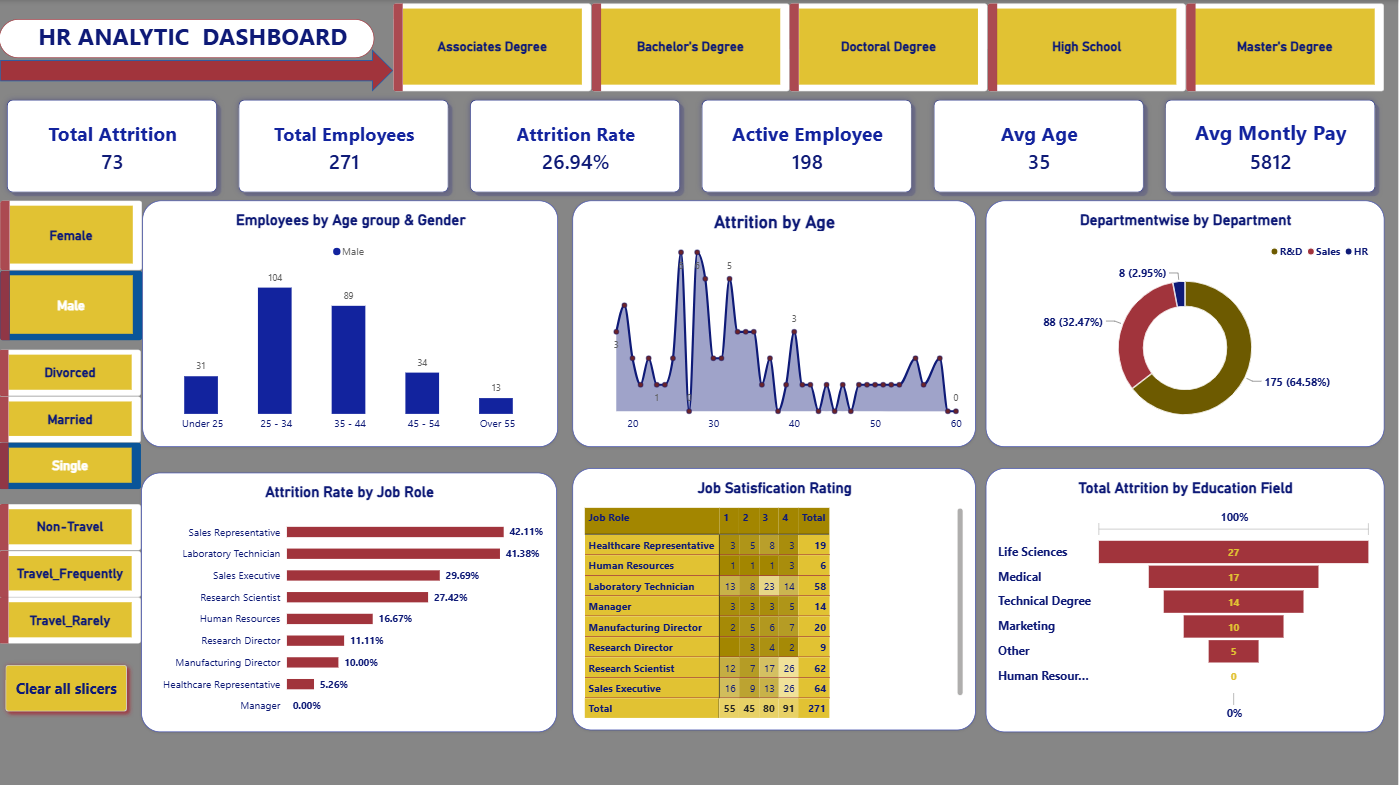

Layout of this report page (visuals, bound fields, positions):
{"tool":"powerbi","page":{"name":"Page 1","canvas":[1920,1080],"ordinal":0},"visuals":[{"type":"cardVisual","fields":{"Data":["HR data.Total  attrition","HR data.Total Employees","HR data.Attrition Rate","HR data.Active Employee","Avg(HR data.Age)","Avg(HR data.Monthly Income)"]},"box":[0,126.1,1901.8,149.1],"z":0},{"type":"clusteredColumnChart","title":"Employees by Age group & Gender","fields":{"Category":["HR data.Age Group"],"Series":["HR data.Gender"],"Y":["HR data.Total Employees"]},"box":[196.8,275.2,570.4,338.2],"z":1000},{"type":"areaChart","title":" Attrition by Age","fields":{"Category":["HR data.Age"],"Y":["HR data.Total  Attrition"]},"box":[787.2,275.2,553.5,338.2],"z":2000},{"type":"donutChart","title":"Departementwise  by Department","fields":{"Category":["HR data.Department"],"Y":["HR data.Total Employees"]},"box":[1354.5,275.2,547.3,338.2],"z":3000},{"type":"clusteredBarChart","fields":{"Category":["HR data.Job Role"],"Y":["HR data.Attrition Rate"]},"box":[195.3,648.8,570.4,356.7],"z":4000},{"type":"pivotTable","title":"Job Satisfication Rating","fields":{"Columns":["HR data.Job Satisfaction"],"Rows":["HR data.Job Role"],"Values":["HR data.Total Employees"]},"box":[787.2,642.7,553.5,359.8],"z":5000},{"type":"funnel","fields":{"Category":["HR data.Education Field"],"Y":["HR data.Total  Attrition"]},"box":[1354.5,642.7,547.3,362.8],"z":6000},{"type":"advancedSlicerVisual","fields":{"Values":["HR data.Gender"]},"box":[1.5,275.2,195.3,192.2],"z":6001},{"type":"advancedSlicerVisual","fields":{"Values":["HR data.Marital Status"]},"box":[0,479.7,195.3,192.2],"z":6002},{"type":"advancedSlicerVisual","fields":{"Values":["HR data.Business Travel"]},"box":[0,691.9,195.3,192.2],"z":6003},{"type":"advancedSlicerVisual","fields":{"Values":["HR data.Education"]},"box":[541.2,4.6,1360.7,121.5],"z":6004},{"type":"actionButton","box":[0,904,184.5,81.5],"z":6005},{"type":"textbox","box":[7.7,32.3,516.6,73.8],"z":6006}]}

Visuals, with their boxes in screenshot pixels (x1, y1, x2, y2), scaled from the page's 1920x1080 canvas onto the 1399x785 screenshot:
cardVisual - HR data.Total  attrition x HR data.Total Employees: <region>0, 92, 1386, 200</region>
"Employees by Age group & Gender" clusteredColumnChart: <region>143, 200, 559, 446</region>
" Attrition by Age" areaChart: <region>574, 200, 977, 446</region>
"Departementwise  by Department" donutChart: <region>987, 200, 1386, 446</region>
clusteredBarChart - HR data.Job Role x HR data.Attrition Rate: <region>142, 472, 558, 731</region>
"Job Satisfication Rating" pivotTable: <region>574, 467, 977, 729</region>
funnel - HR data.Education Field x HR data.Total  Attrition: <region>987, 467, 1386, 731</region>
advancedSlicerVisual - HR data.Gender: <region>1, 200, 143, 340</region>
advancedSlicerVisual - HR data.Marital Status: <region>0, 349, 142, 488</region>
advancedSlicerVisual - HR data.Business Travel: <region>0, 503, 142, 643</region>
advancedSlicerVisual - HR data.Education: <region>394, 3, 1386, 92</region>
actionButton: <region>0, 657, 134, 716</region>
textbox: <region>6, 23, 382, 77</region>
